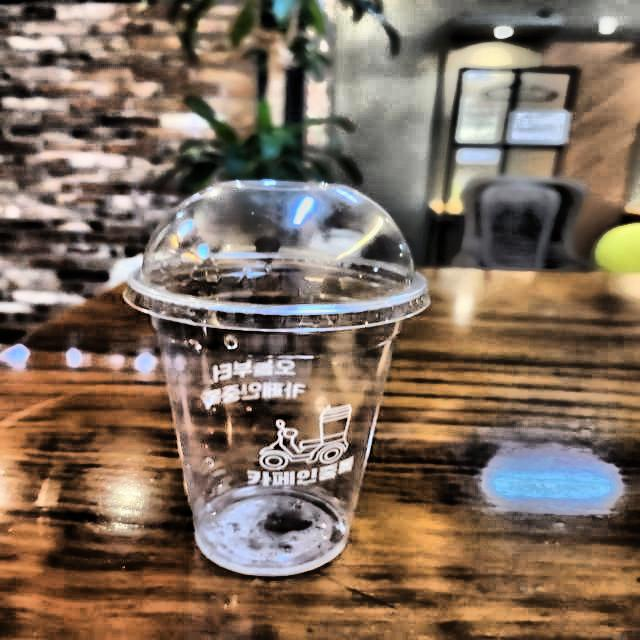plastic cup: (116, 161, 445, 588)
